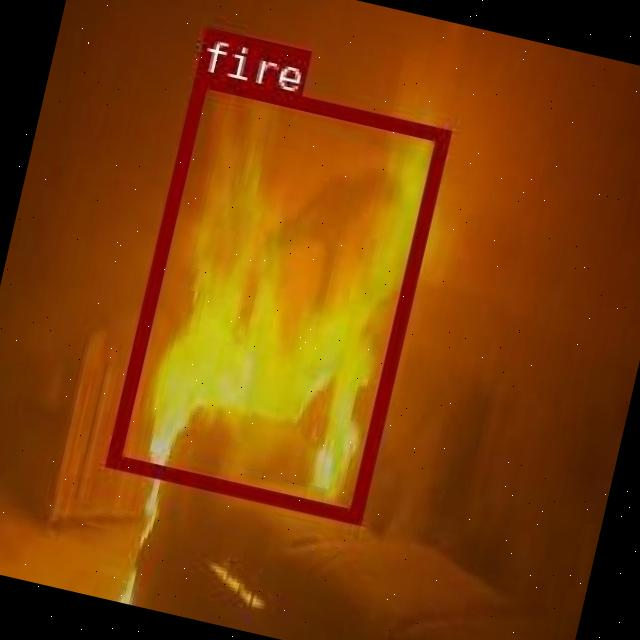fire: (105, 70, 448, 522)
